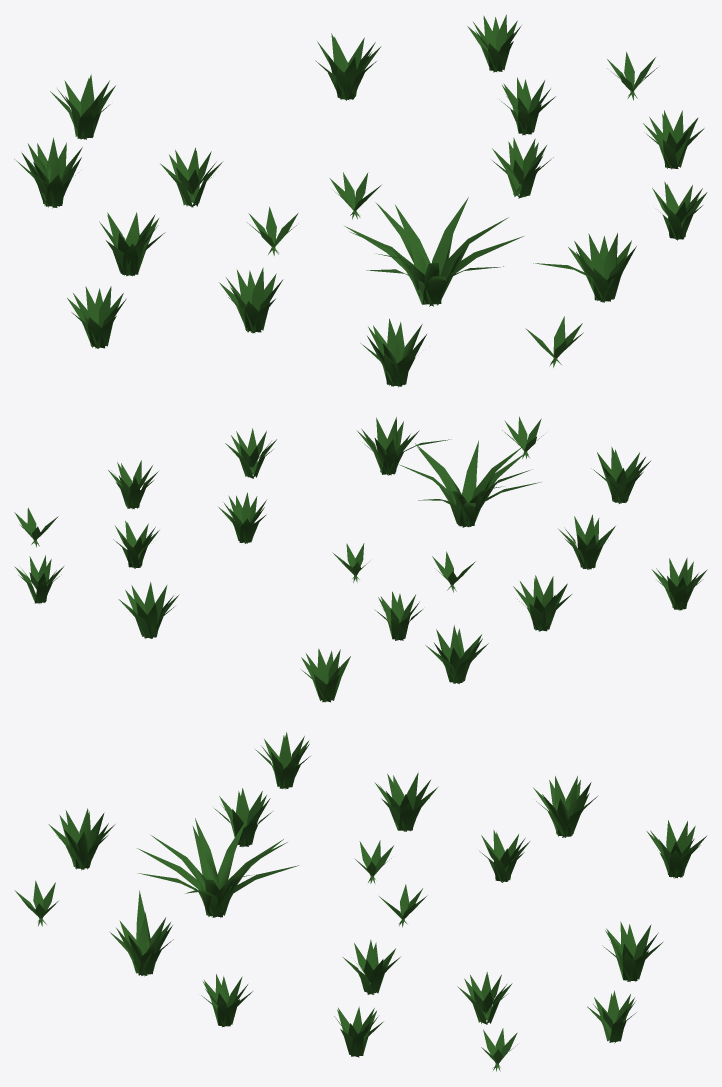
File: SM_Grass_001_LOD4.fbx
The picture shows the model from 3 angles, top to bottom: view 1: azimuth 30°, elevation 25°; view 2: azimuth 150°, elevation 25°; view 3: azimuth 270°, elevation 25°; orthographic projection. The views are drawn at different scales.
Visible parts, largest first — view 1: Grass; view 2: Grass; view 3: Grass.
Boxes of the visible parts, bbox=[...] form: Grass: bbox=[14, 14, 707, 387]; Grass: bbox=[14, 416, 707, 702]; Grass: bbox=[14, 732, 706, 1071].
Size of the model in its own units: 484 by 48.89 by 459.
